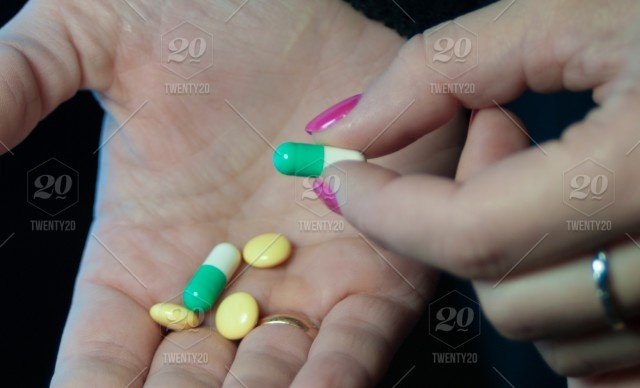pills: (265, 146, 372, 183), (184, 241, 237, 313), (244, 233, 298, 268), (219, 293, 256, 337), (155, 301, 199, 332)
